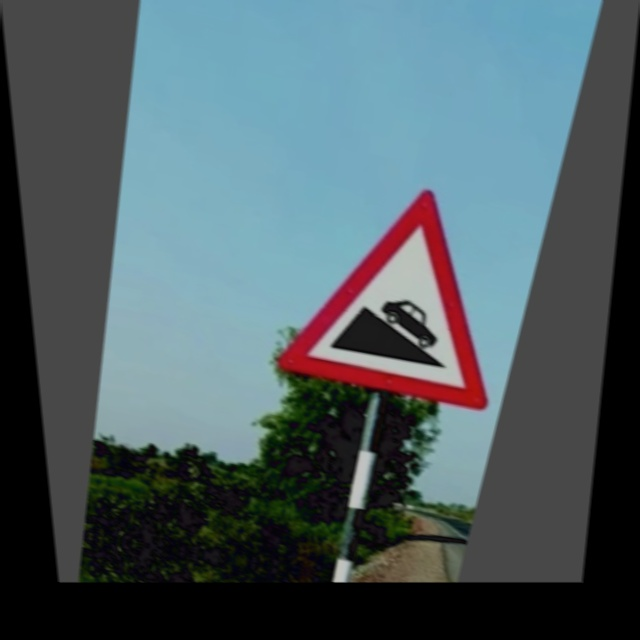Steep_Descent: (273, 169, 537, 410)
